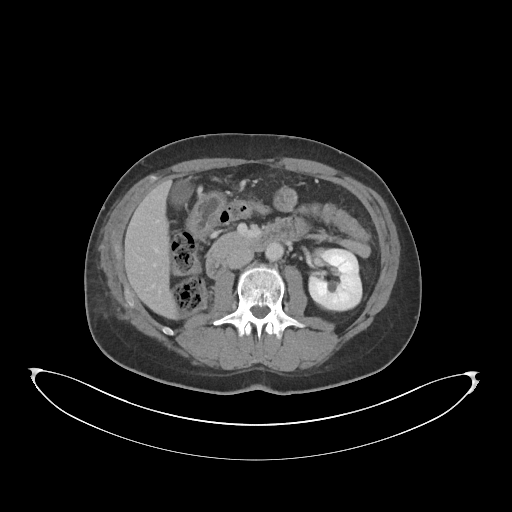Lesion: (325, 277, 339, 294)
